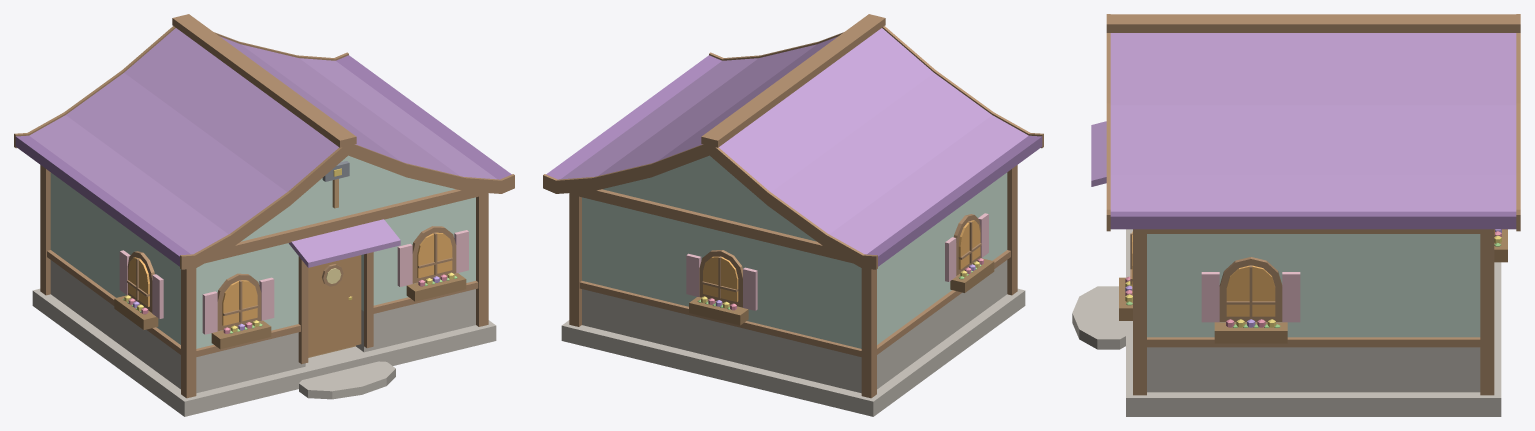
File: forge_mint.glb
3 views of the same model, side by side, from view 1: azimuth 30°, elevation 25°; view 2: azimuth 150°, elevation 25°; view 3: azimuth 270°, elevation 25° (orthographic). The views are drawn at different scales.
Visible parts, largest first — view 1: Player; view 2: Player; view 3: Player.
Part boxes in pixels (x1,y1,x2,y2): Player: (14, 14, 514, 416); Player: (543, 14, 1043, 416); Player: (1072, 14, 1520, 416).
Size of the model in its own units: 6.84 by 4.82 by 6.45.
